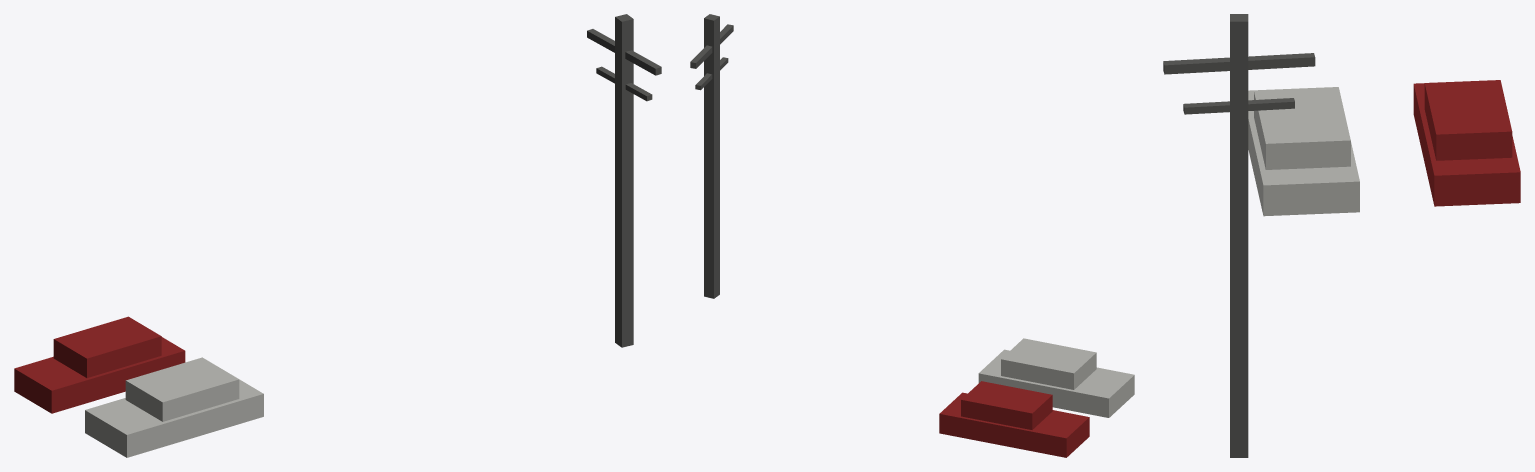
The picture shows the model from 3 angles, left to right: view 1: azimuth 30°, elevation 25°; view 2: azimuth 150°, elevation 25°; view 3: azimuth 270°, elevation 25°; orthographic projection. The views are drawn at different scales.
Visible parts, largest first — view 1: Props_Solid__r-20c-12-col, Props_Foliage__r-20c-12; view 2: Props_Solid__r-20c-12-col, Props_Foliage__r-20c-12; view 3: Props_Solid__r-20c-12-col, Props_Foliage__r-20c-12.
Part boxes in pixels (left/top/right/bottom): Props_Solid__r-20c-12-col: left=14, top=14, right=633, bottom=457; Props_Foliage__r-20c-12: left=587, top=29, right=661, bottom=101; Props_Solid__r-20c-12-col: left=704, top=14, right=1134, bottom=457; Props_Foliage__r-20c-12: left=690, top=24, right=733, bottom=90; Props_Solid__r-20c-12-col: left=1230, top=14, right=1520, bottom=457; Props_Foliage__r-20c-12: left=1163, top=53, right=1315, bottom=114.
Bounding box in the file's own units: 15.93 × 9.5 × 7.06.
